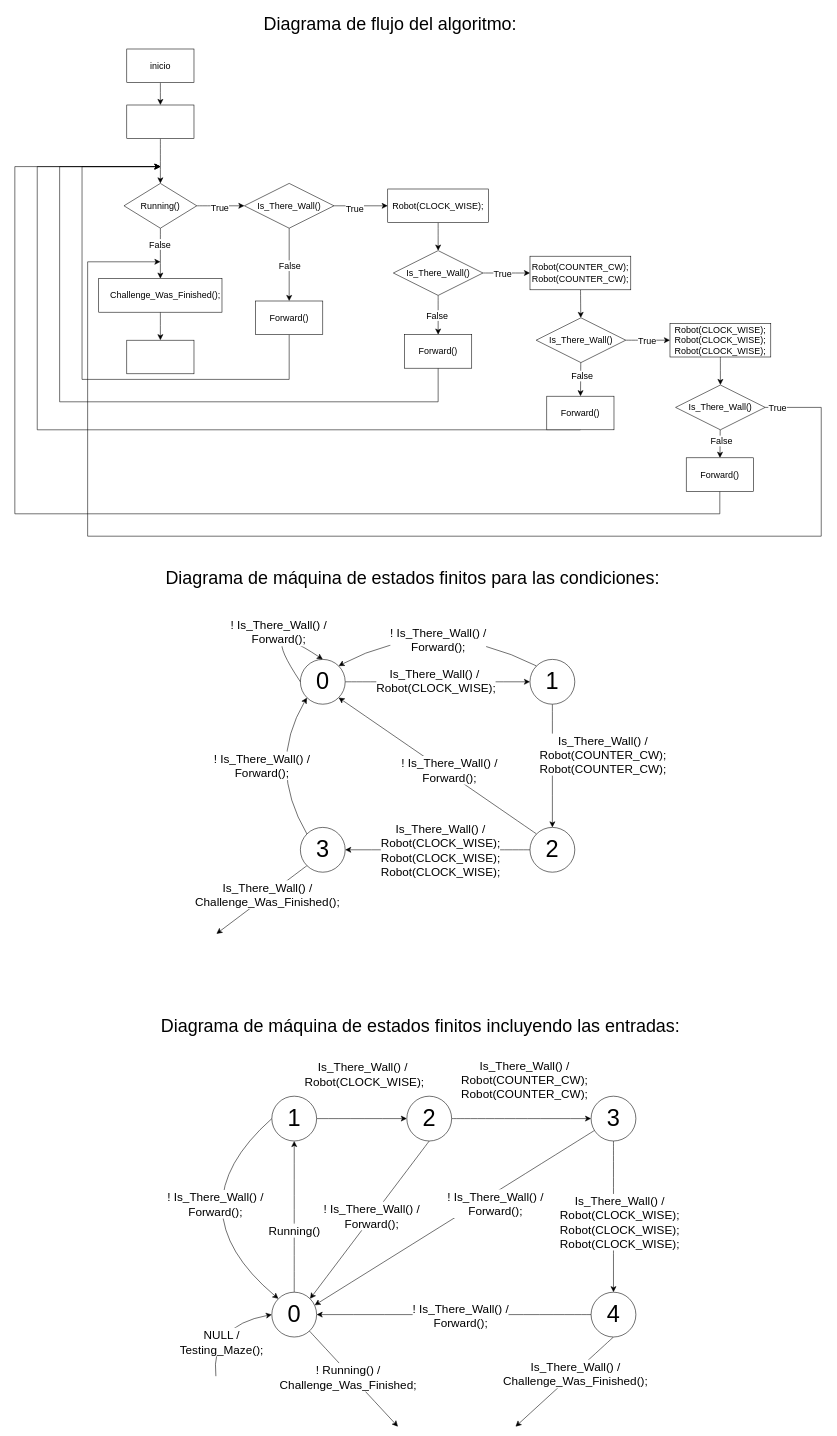
Image size: 837x1436. Some labels were removed from this diagram. Each missing label, with the centre of its shape:
"Fin" goes at (160,357).
"Testing_Maze();" goes at (160,121).
